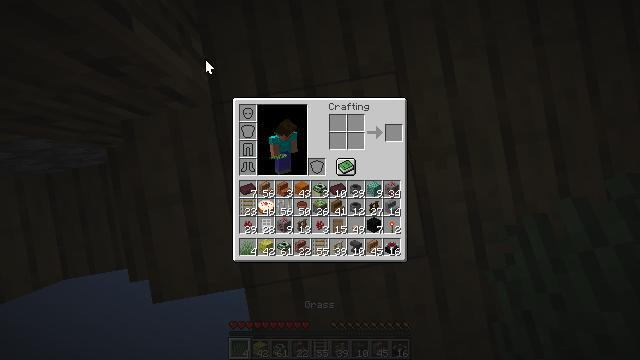cursor: (59, 205, 75, 215)
